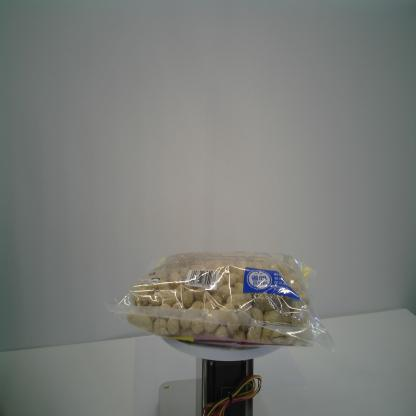Dried Food: (98, 240, 340, 362)
